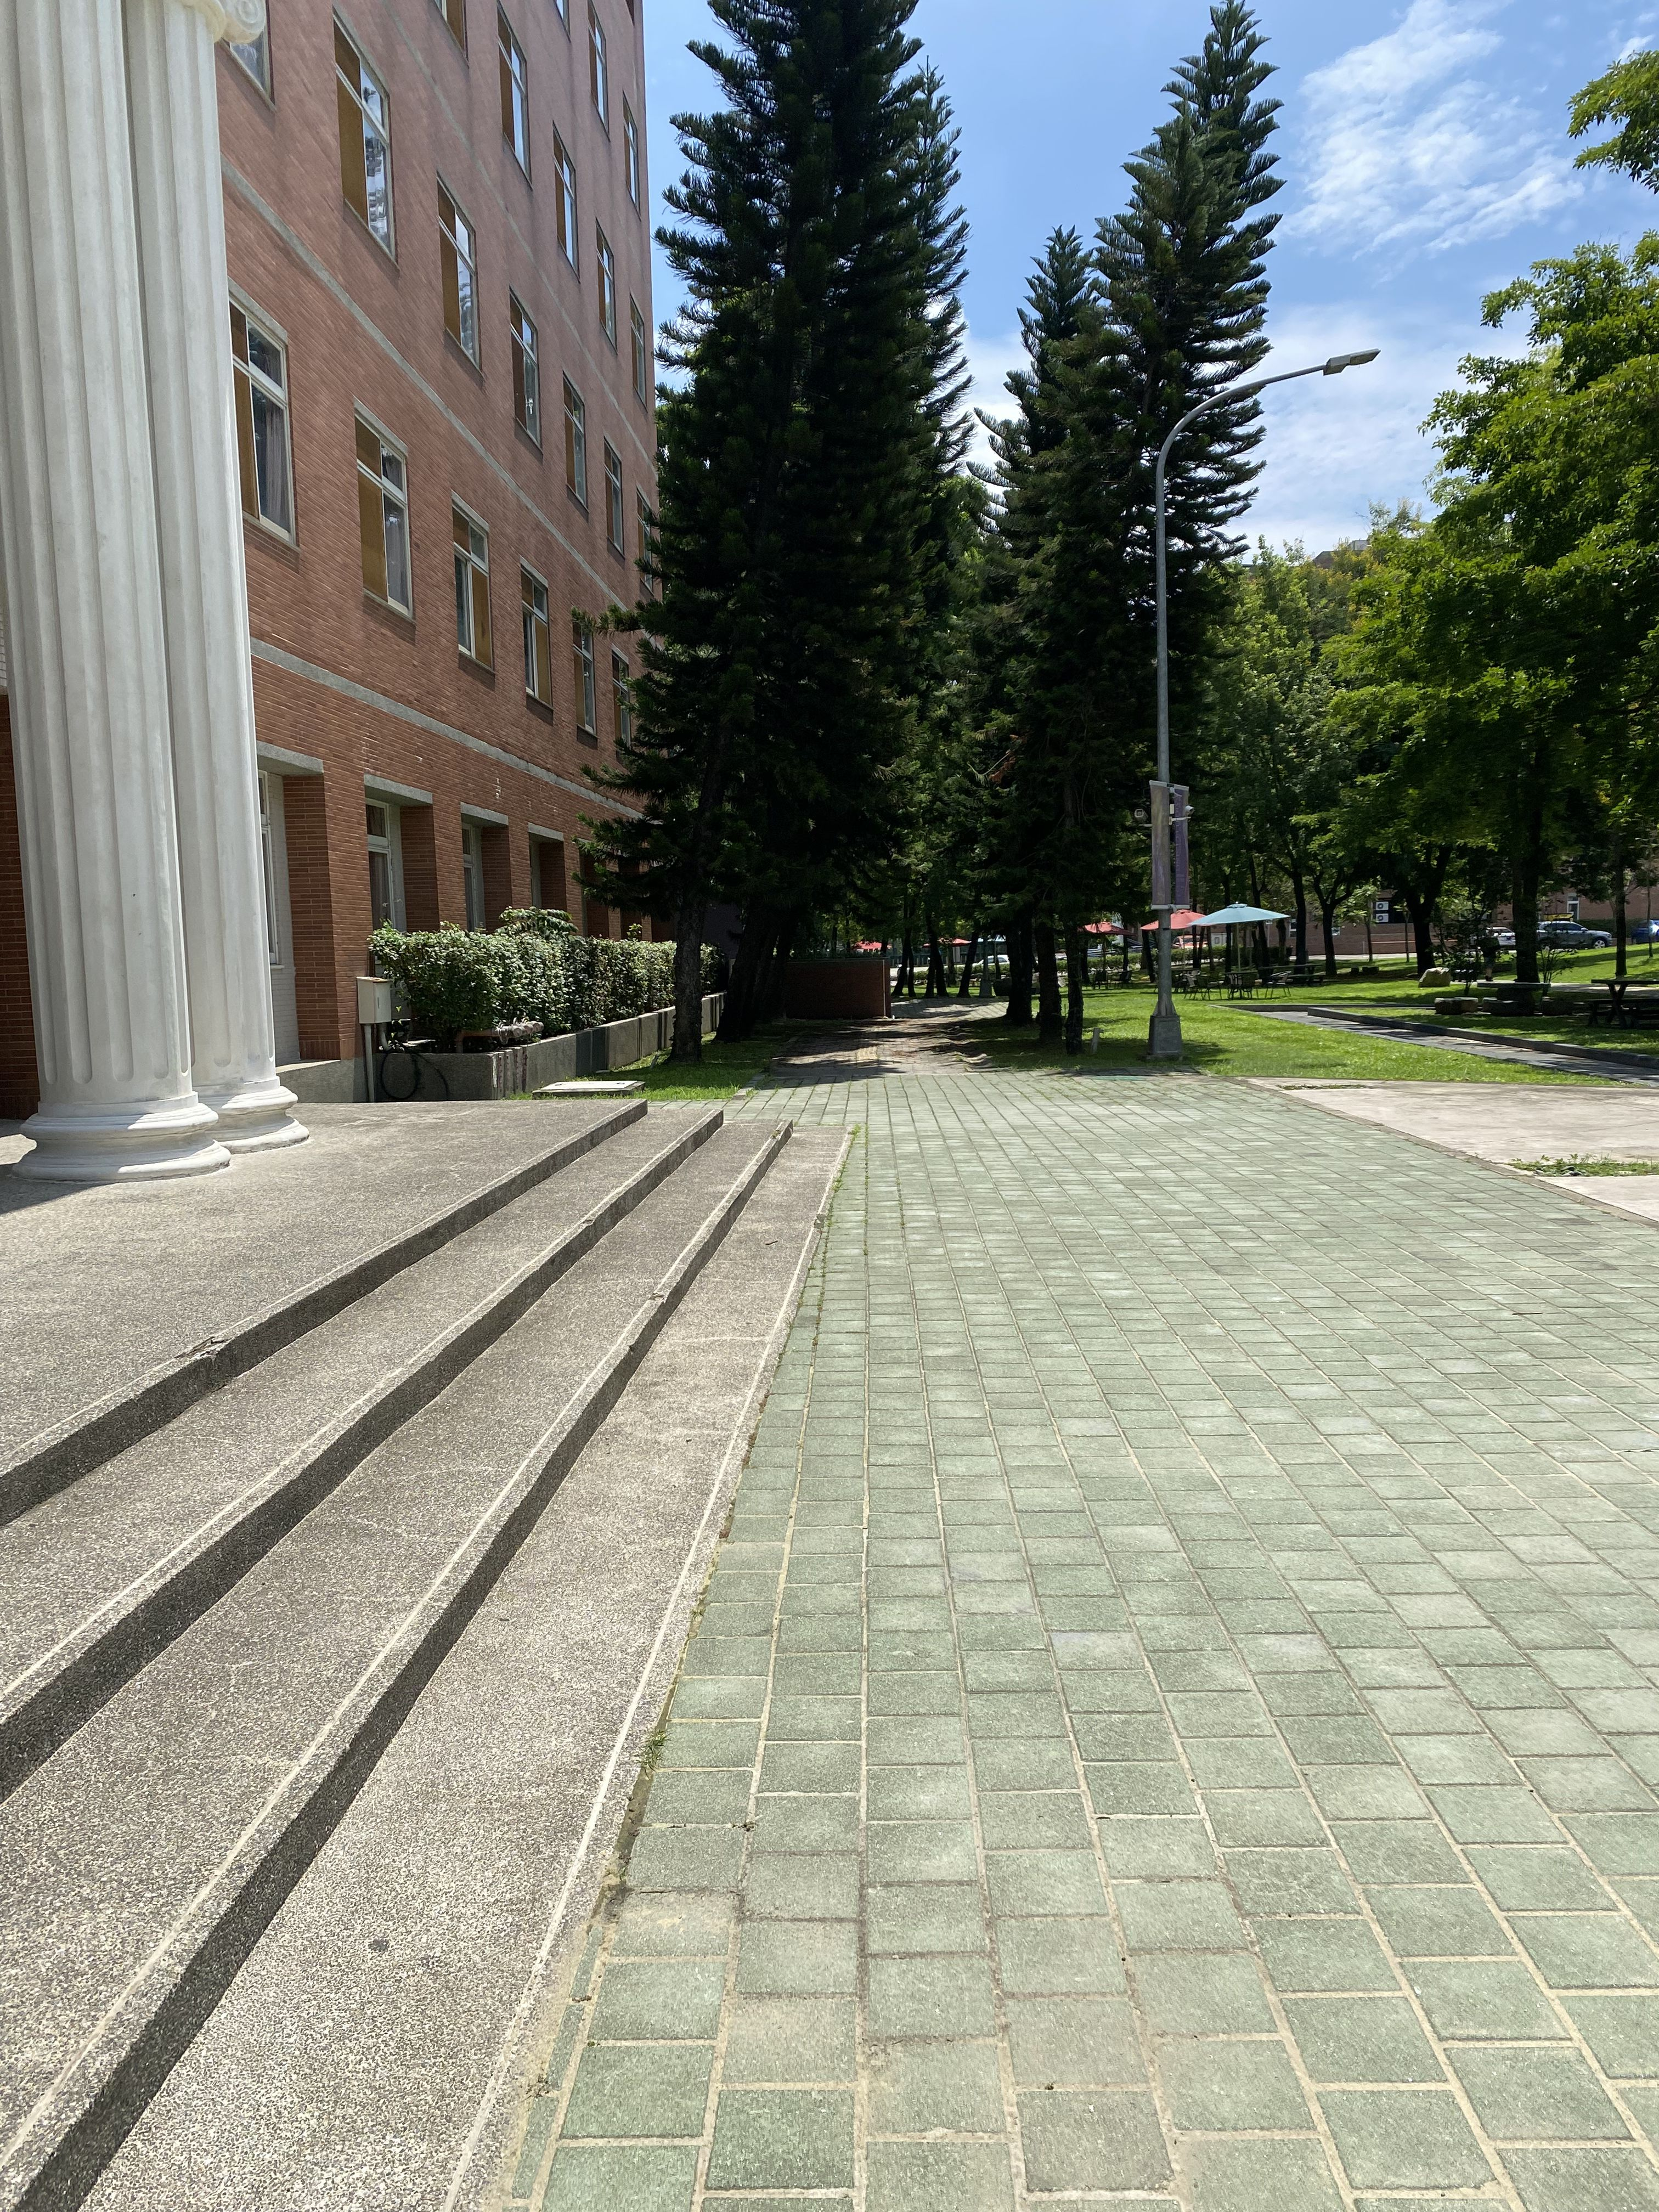sidewalk: (570, 960, 1659, 2212)
